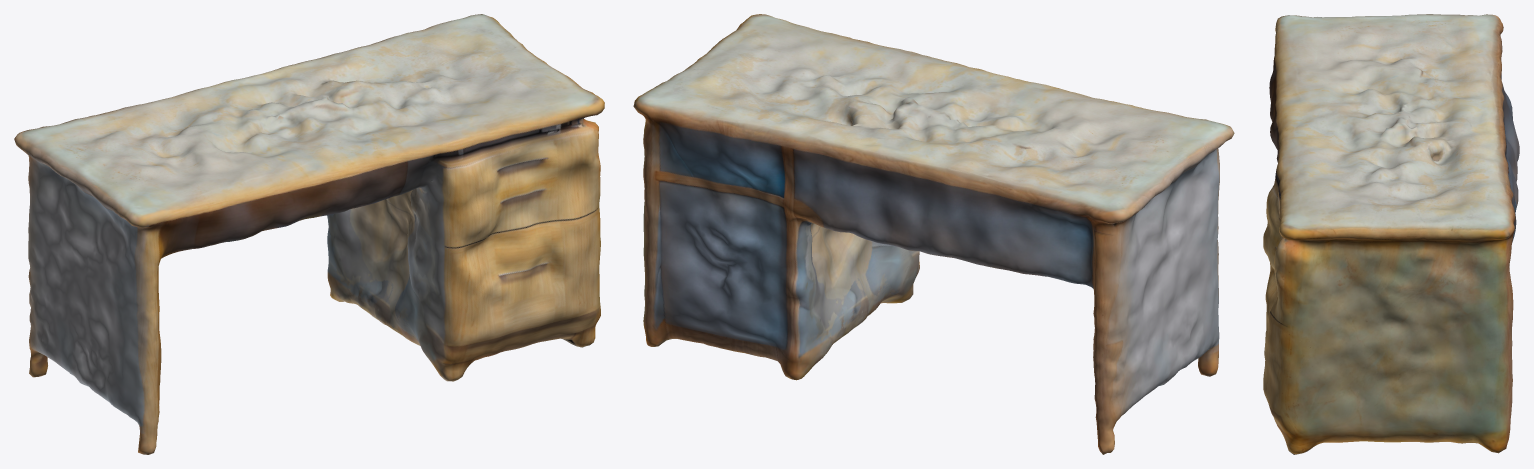
Rendered from office_desk_0712141803_refine.obj.
3 renders of one model, left to right at view 1: azimuth 30°, elevation 25°; view 2: azimuth 150°, elevation 25°; view 3: azimuth 270°, elevation 25°, orthographic. The views are drawn at different scales.
Visible parts, largest first — view 1: Mesh_0; view 2: Mesh_0; view 3: Mesh_0.
Part boxes in pixels (<box>): Mesh_0: <box>14,14,604,454</box>; Mesh_0: <box>633,14,1234,454</box>; Mesh_0: <box>1263,14,1519,454</box>.
Bounding box in the file's own units: 1.2 × 0.6146 × 0.592.
1 material, 1 textured.
